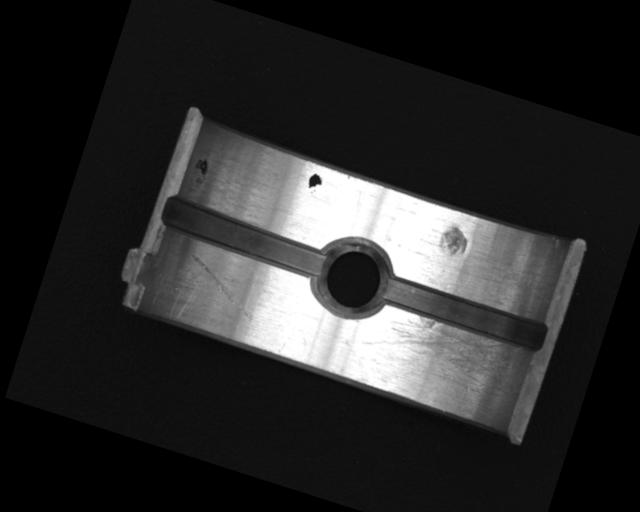blot: (187, 154, 212, 188), (303, 170, 325, 197)
bruise: (435, 221, 473, 261)
gap: (156, 191, 335, 283), (377, 270, 549, 355)
hole: (306, 230, 400, 326)
nick: (176, 251, 268, 322)
scratch: (355, 301, 525, 413)
